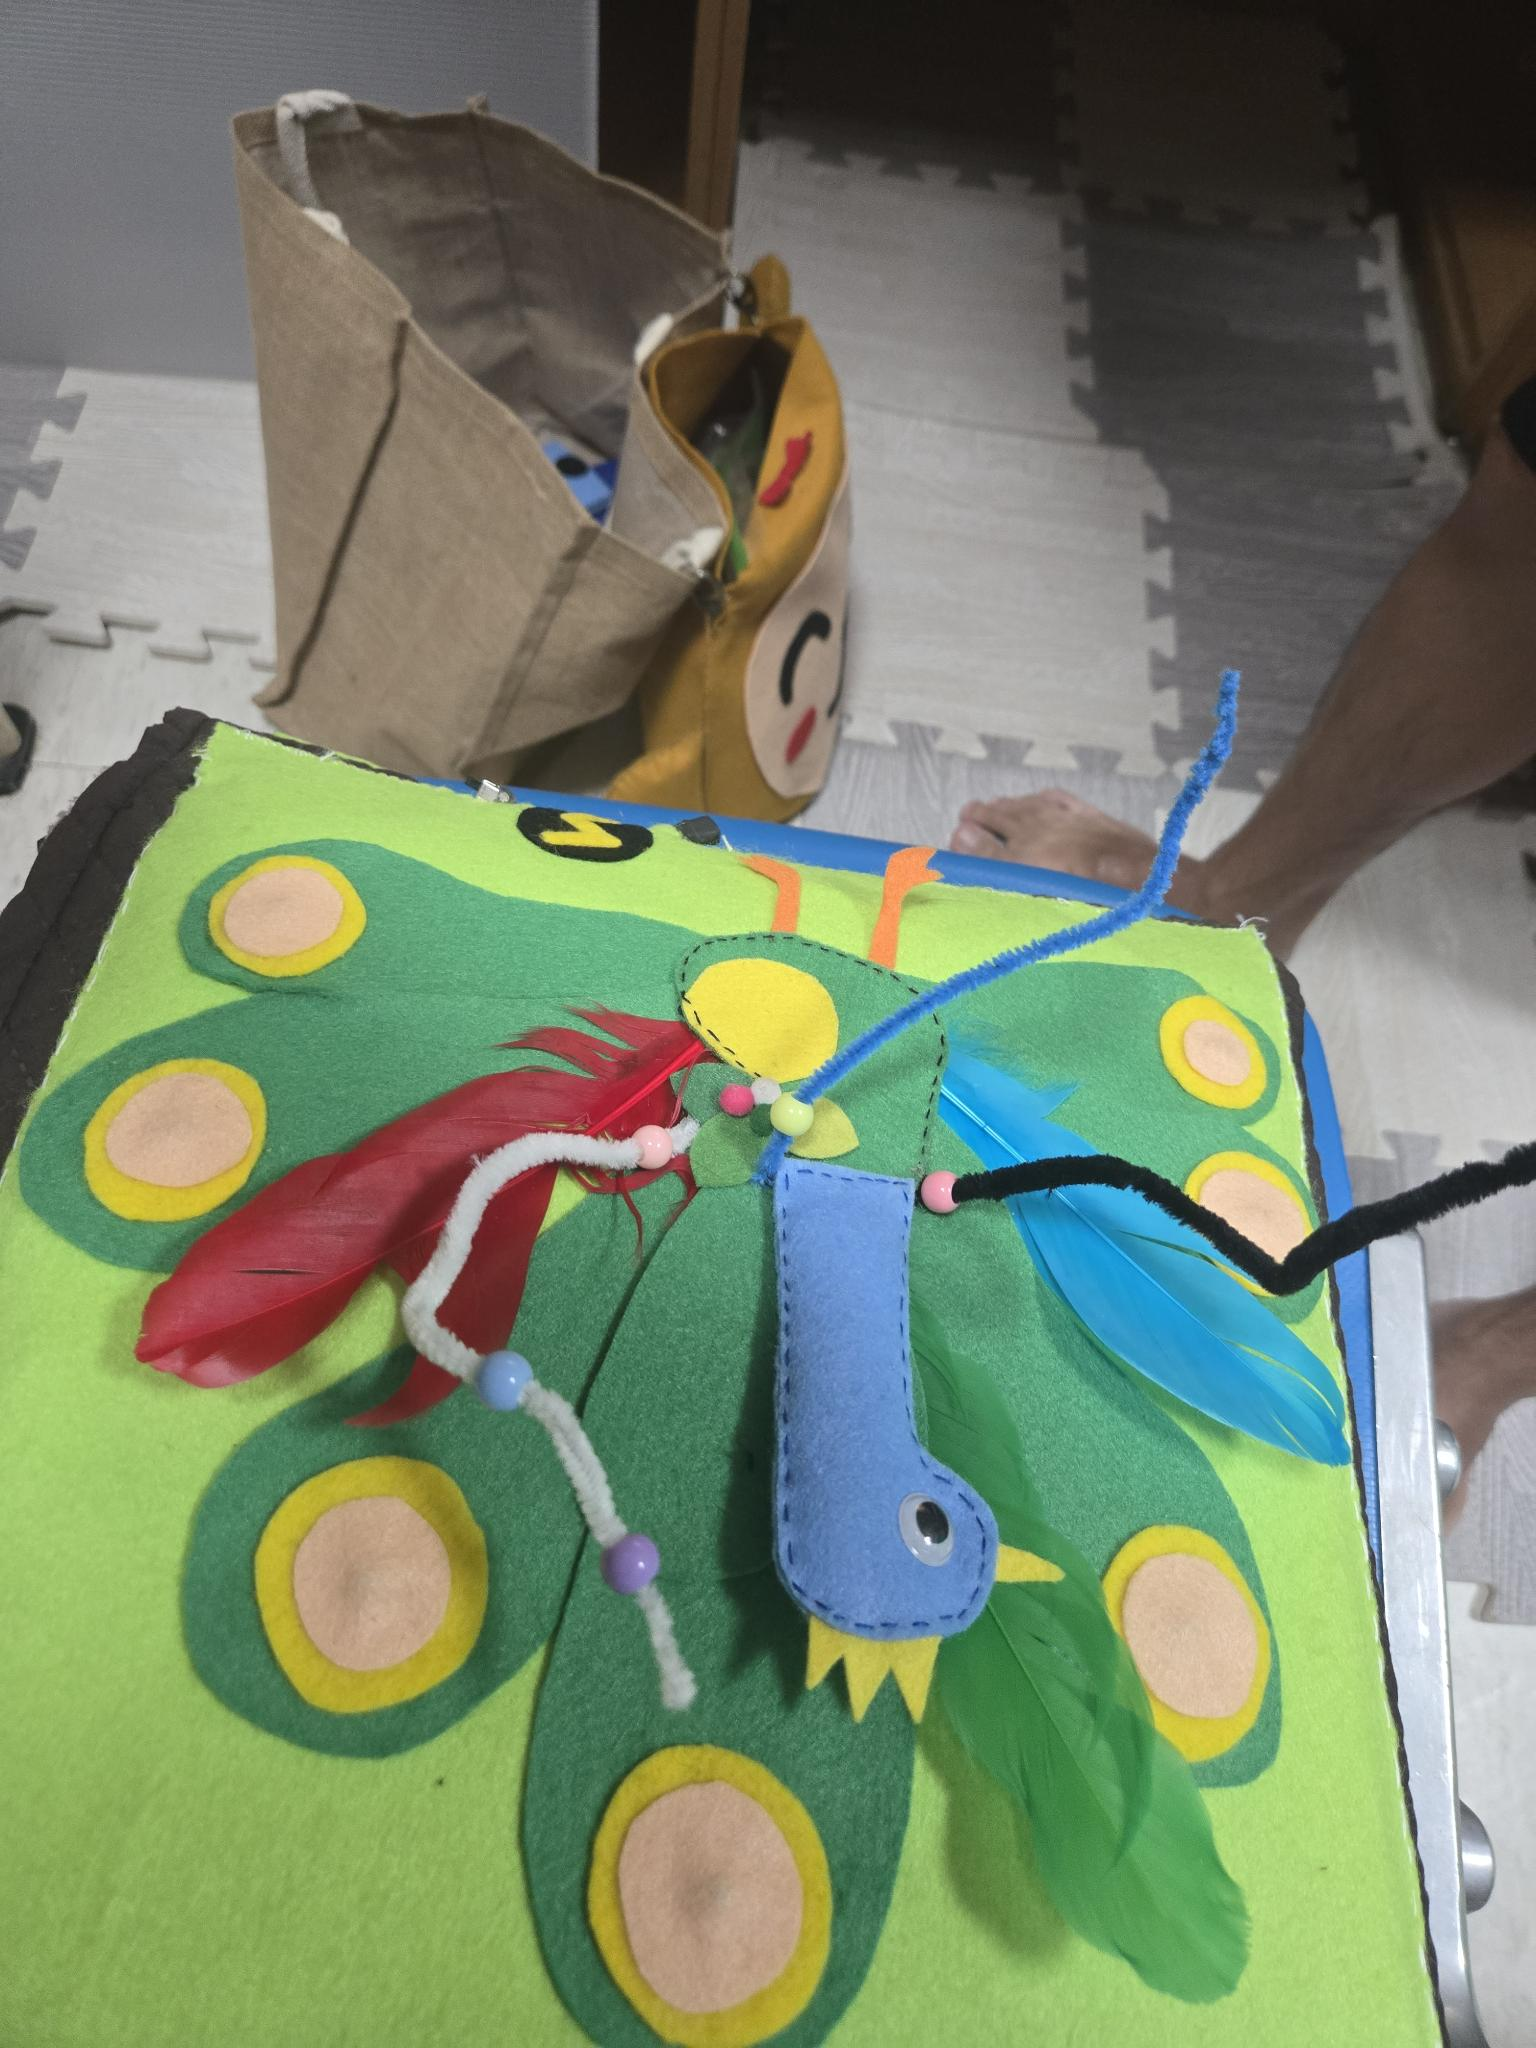bead: (589, 1519, 666, 1601), (471, 1350, 541, 1419), (907, 1155, 968, 1224), (629, 1119, 679, 1185), (768, 1089, 820, 1142)
